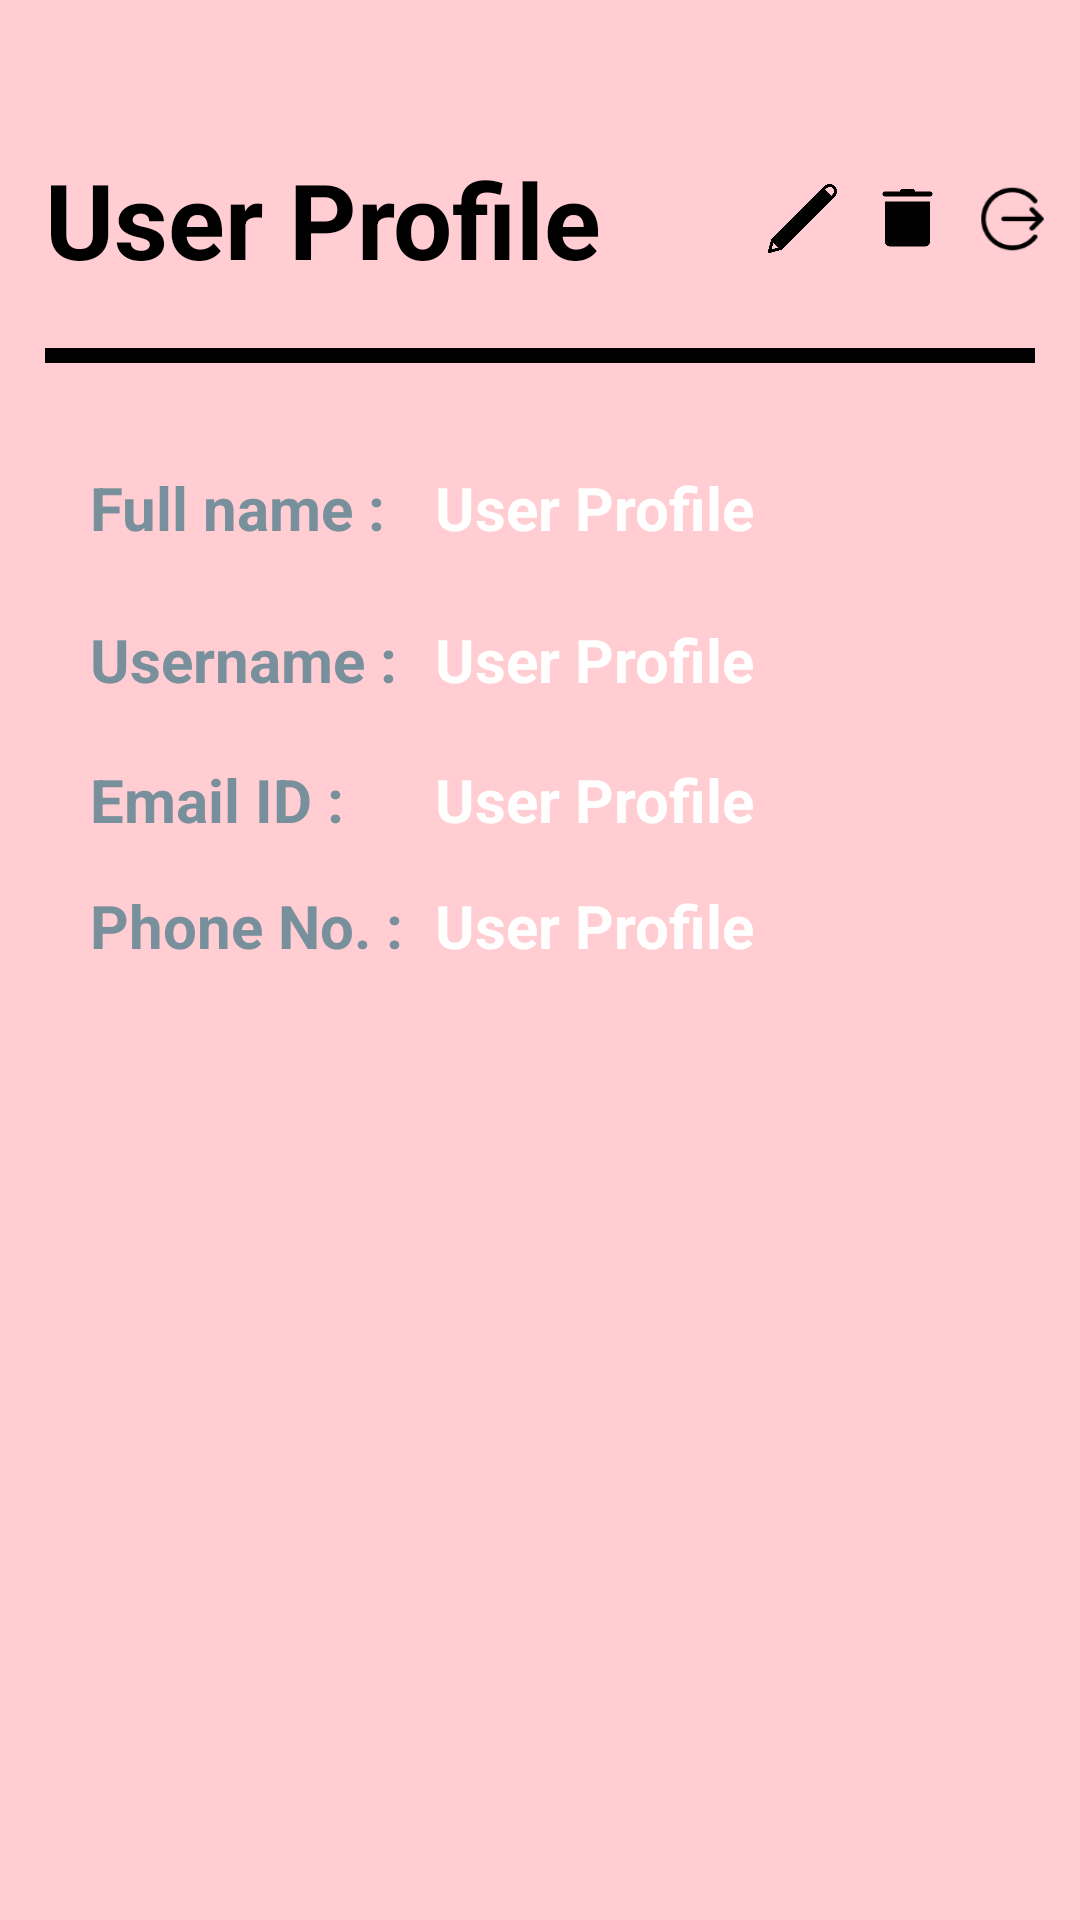

Named icons in this screenshot (1080px×1920px) and their bounding boxes, [x1,y1,x2,y2]:
delete: [882,189,933,247]
edit: [768,184,837,253]
